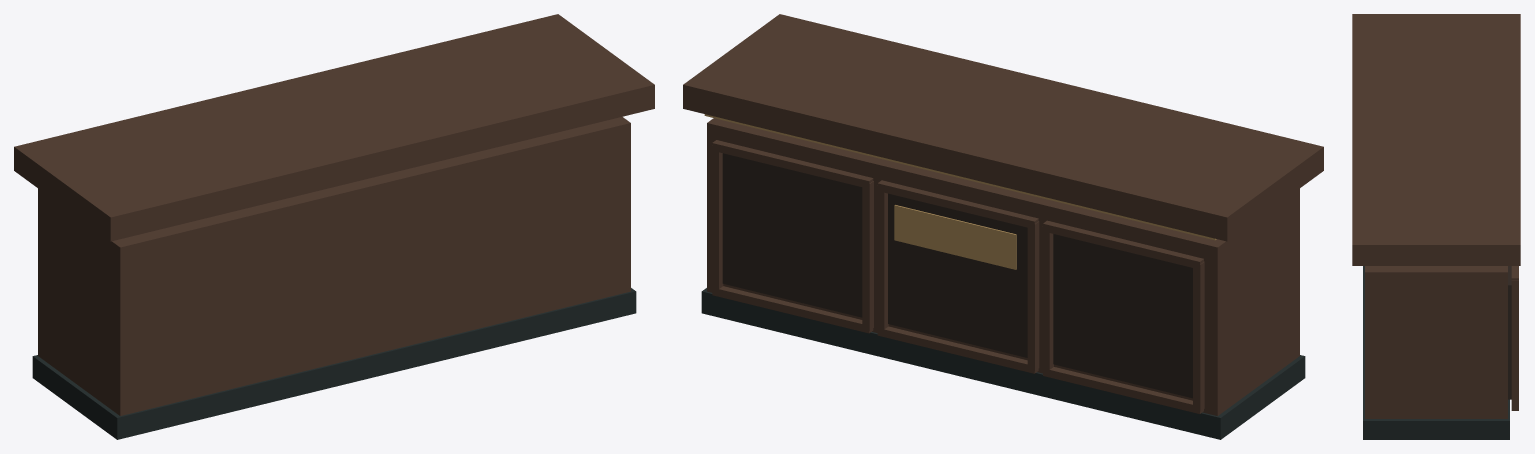
File: LP_ReceptionCounter.fbx
3 views of the same model, side by side, from view 1: azimuth 30°, elevation 25°; view 2: azimuth 150°, elevation 25°; view 3: azimuth 270°, elevation 25° (orthographic). The views are drawn at different scales.
Parts seen in each view (by area): view 1: Walnut, Charcoal; view 2: Walnut, RecessedWalnut, Charcoal, AgedBrass; view 3: Walnut, Charcoal, RecessedWalnut.
Boxes of the visible parts, x1,y1,x2,y2 form: Walnut: [14, 14, 654, 415]; Charcoal: [32, 288, 636, 439]; Walnut: [683, 14, 1323, 415]; RecessedWalnut: [722, 153, 1192, 398]; Charcoal: [701, 288, 1305, 439]; AgedBrass: [704, 114, 1216, 269]; Walnut: [1352, 14, 1520, 418]; Charcoal: [1363, 266, 1509, 439]; RecessedWalnut: [1508, 266, 1511, 399].
Bounding box in the file's own units: 260 × 105 × 80.
